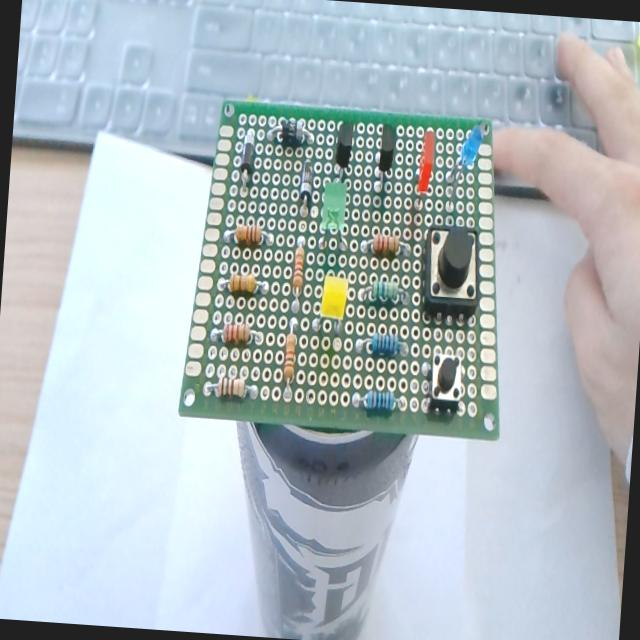diode: (264, 115, 316, 149), (293, 157, 315, 217), (238, 124, 256, 187)
led: (439, 119, 484, 208), (315, 178, 353, 257), (312, 268, 352, 342), (410, 125, 438, 202)
resistor: (274, 318, 304, 408), (344, 384, 409, 418), (199, 373, 261, 407), (284, 234, 309, 316), (215, 272, 272, 305), (357, 231, 414, 261), (220, 222, 276, 252), (350, 334, 412, 361), (204, 319, 266, 345), (359, 278, 409, 310)
switch: (416, 220, 482, 324), (418, 344, 466, 417)
transistor: (372, 120, 399, 198), (330, 116, 360, 180)
